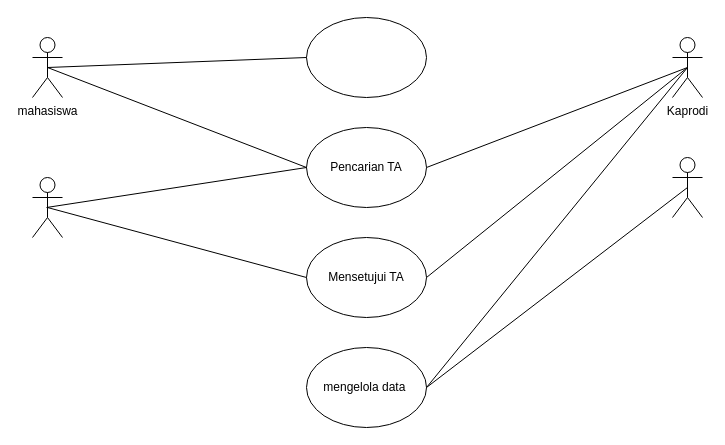
The diagram is 725 pixels wide and 445 high, and some of its shapes have lost their labels. Here are the shapes that lost their labels. From the top down, the centre of each, then its label:
At (366,57): "Upload TA".
At (47,207): "Dosen".
At (687,187): "Admin".
